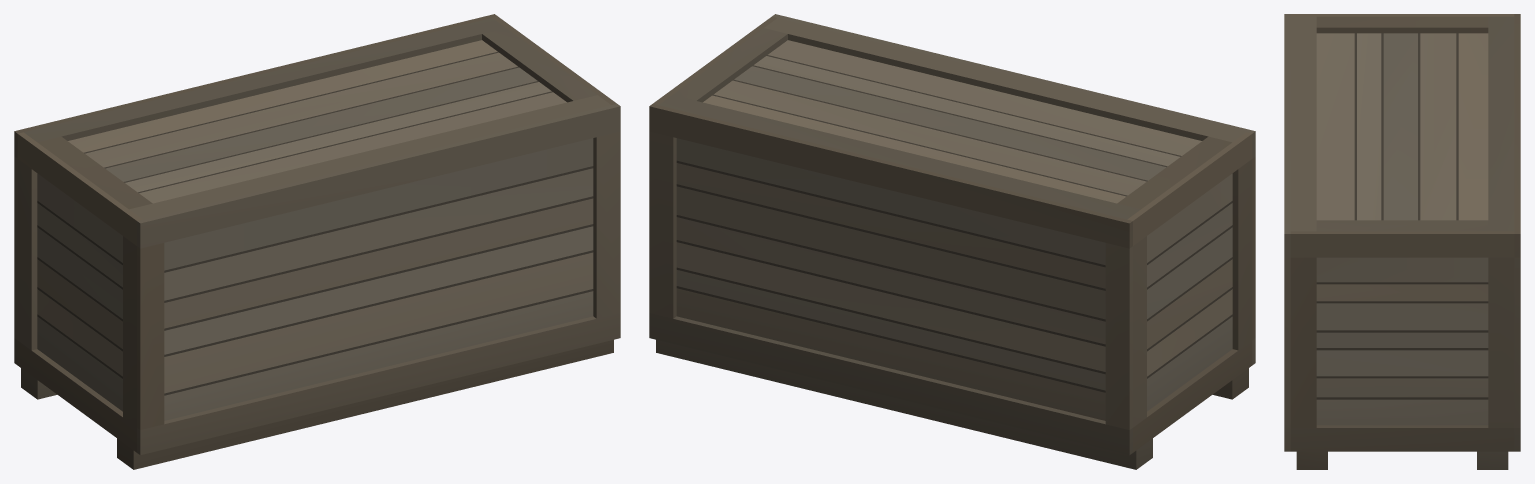
File: crate.factory_long.weathered.glb
3 views of the same model, side by side, from view 1: azimuth 30°, elevation 25°; view 2: azimuth 150°, elevation 25°; view 3: azimuth 270°, elevation 25° (orthographic). The views are drawn at different scales.
Visible parts, largest first — view 1: crate_factory_long_weathered; view 2: crate_factory_long_weathered; view 3: crate_factory_long_weathered.
Boxes of the visible parts, x1=… form: crate_factory_long_weathered: x1=14, y1=14, x2=620, y2=469; crate_factory_long_weathered: x1=649, y1=14, x2=1255, y2=469; crate_factory_long_weathered: x1=1284, y1=14, x2=1520, y2=469.
Size of what is drawn, in the model's own units: 1.8 by 0.9 by 0.818.
